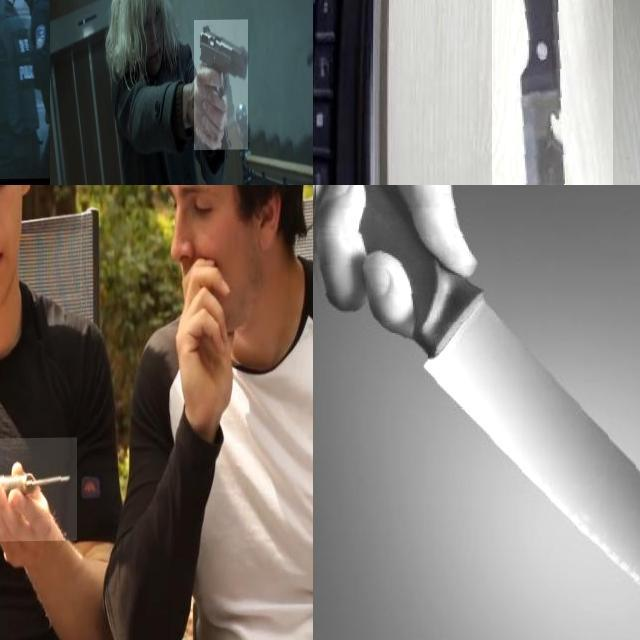-: (313, 185, 640, 640), (491, 0, 613, 185), (0, 438, 76, 542)
gun-knife-thesis - v11 Yolov5 augmented: (194, 21, 248, 152), (0, 17, 14, 44)
